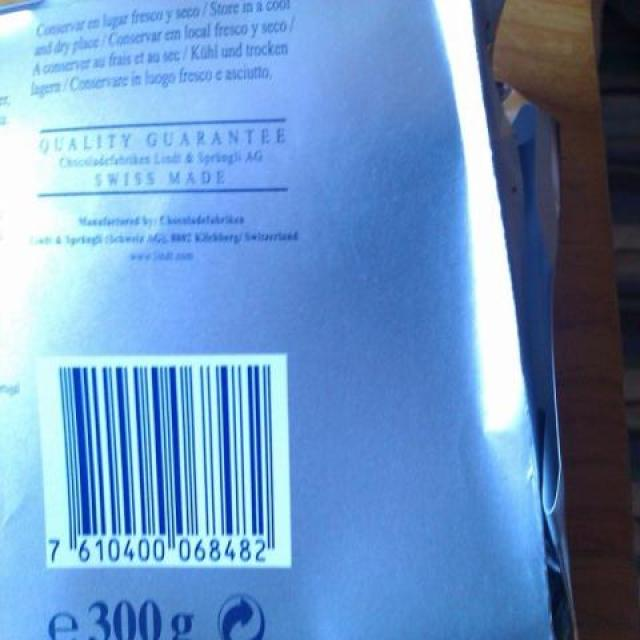Barcode: (36, 353, 292, 567)
